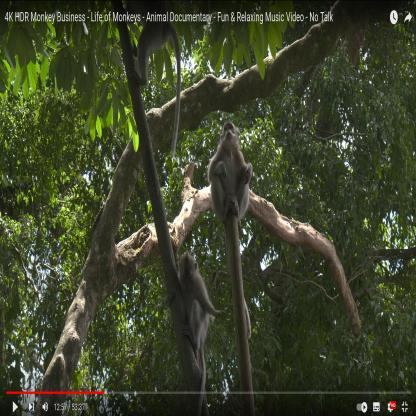monkey: (161, 248, 225, 353), (206, 120, 252, 225)
